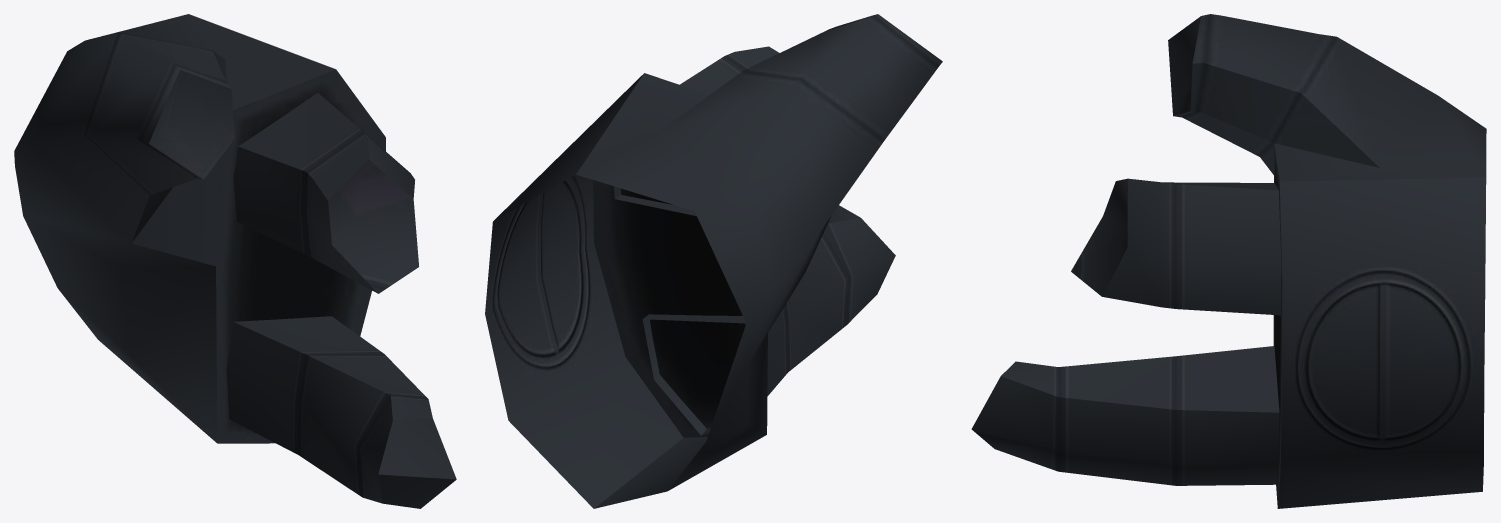
File: Assist_jixiebi03_L_sunhuai.FBX
3 renders of one model, left to right at view 1: azimuth 30°, elevation 25°; view 2: azimuth 150°, elevation 25°; view 3: azimuth 270°, elevation 25°, orthographic. The views are drawn at different scales.
Parts seen in each view (by area): view 1: Assist_jixiebi03_L_sunhuai; view 2: Assist_jixiebi03_L_sunhuai; view 3: Assist_jixiebi03_L_sunhuai.
Boxes of the visible parts, left/top/right/bottom form: Assist_jixiebi03_L_sunhuai: left=14, top=14, right=456, bottom=508; Assist_jixiebi03_L_sunhuai: left=485, top=14, right=942, bottom=508; Assist_jixiebi03_L_sunhuai: left=971, top=14, right=1486, bottom=508.
Size of the model in its own units: 0.9283 by 1.3 by 1.44.
1 material, 1 textured.
